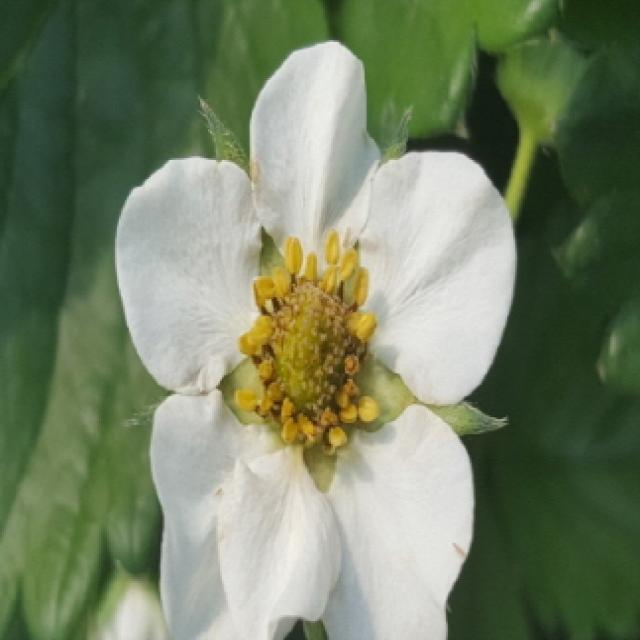Blossom Blight: (229, 223, 386, 458)
